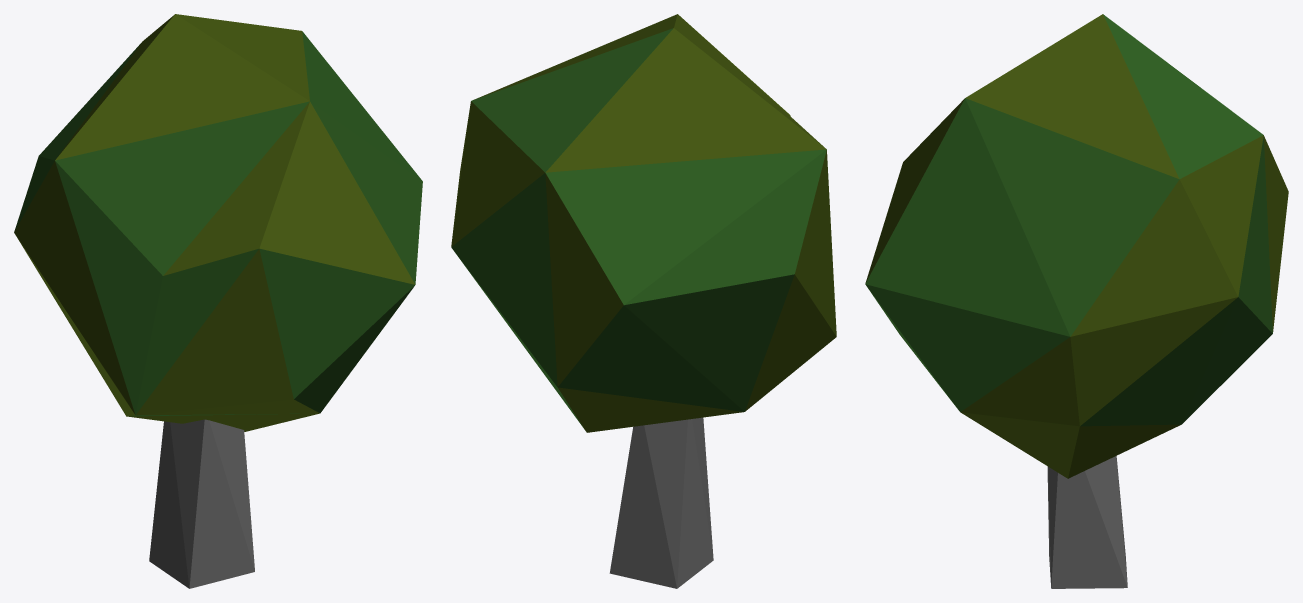
File: Tree1_M1_2_small.fbx
3 views of the same model, side by side, from view 1: azimuth 30°, elevation 25°; view 2: azimuth 150°, elevation 25°; view 3: azimuth 270°, elevation 25° (orthographic).
Parts seen in each view (by area): view 1: Tree1_M1_2_small; view 2: Tree1_M1_2_small; view 3: Tree1_M1_2_small.
Boxes of the visible parts, x1,y1,x2,y2 form: Tree1_M1_2_small: (14, 14, 422, 588); Tree1_M1_2_small: (451, 14, 836, 588); Tree1_M1_2_small: (865, 14, 1288, 588).
Bounding box in the file's own units: 57.41 × 81.26 × 56.84.
